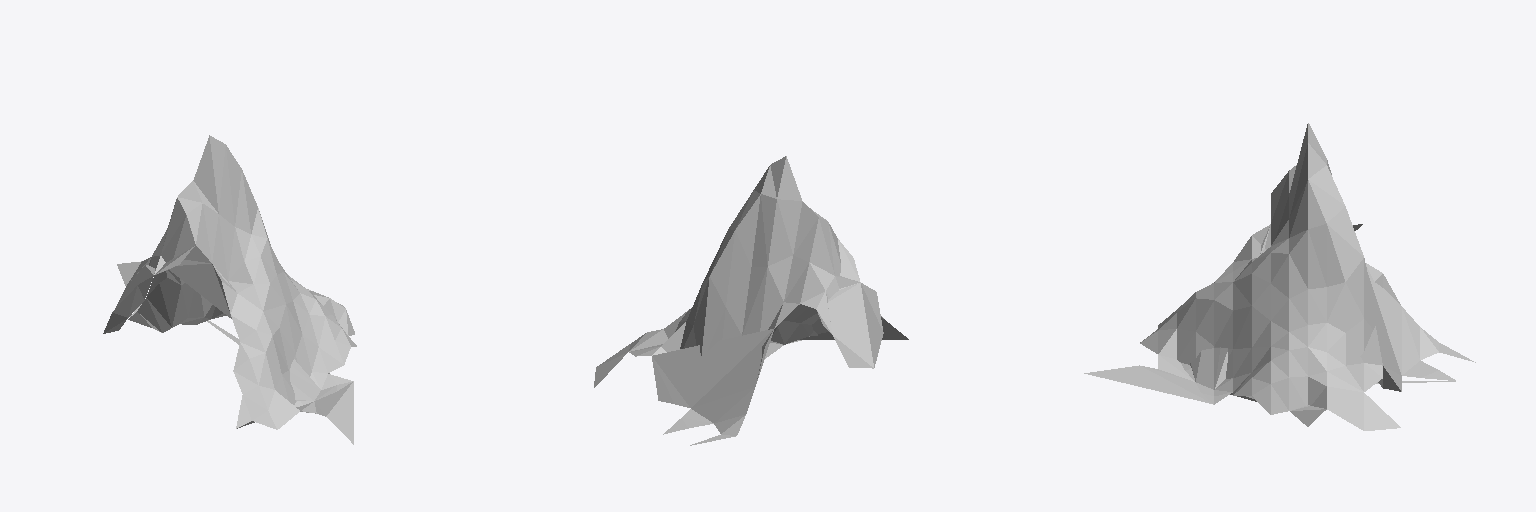
File: tree_62.obj
The picture shows the model from 3 angles: view 1: azimuth 30°, elevation 25°; view 2: azimuth 150°, elevation 25°; view 3: azimuth 270°, elevation 25°; orthographic projection.
Visible parts, largest first — view 1: tree_62_minus_dtm; view 2: tree_62_minus_dtm; view 3: tree_62_minus_dtm.
Boxes of the visible parts, x1=… form: tree_62_minus_dtm: x1=103, y1=135, x2=356, y2=444; tree_62_minus_dtm: x1=594, y1=156, x2=908, y2=445; tree_62_minus_dtm: x1=1084, y1=123, x2=1475, y2=430.
Size of the model in its own units: 16 by 13.95 by 21.